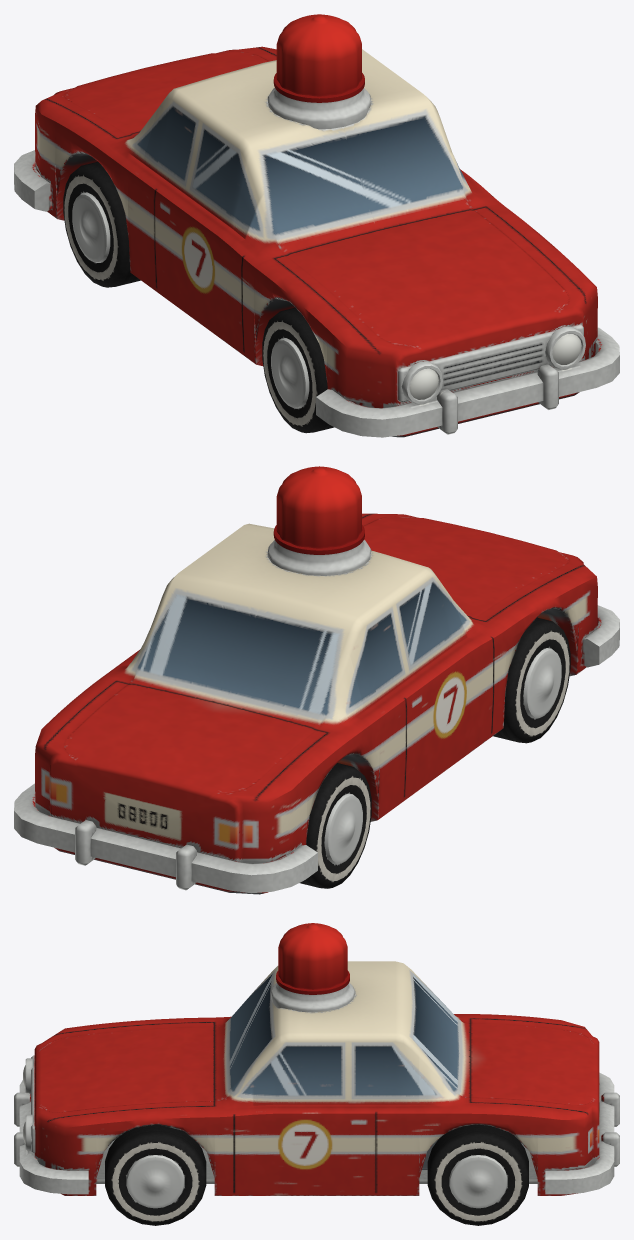
Rendered from SirenCar.fbx.
3 renders of one model, top to bottom at view 1: azimuth 30°, elevation 25°; view 2: azimuth 150°, elevation 25°; view 3: azimuth 270°, elevation 25°, orthographic. The views are drawn at different scales.
Visible parts, largest first — view 1: SirenCar_Body, SirenCar_Beacon, SirenCar_RearWheels, SirenCar_FrontWheels; view 2: SirenCar_Body, SirenCar_Beacon, SirenCar_FrontWheels, SirenCar_RearWheels; view 3: SirenCar_Body, SirenCar_RearWheels, SirenCar_FrontWheels, SirenCar_Beacon.
Boxes of the visible parts, x1=… form: SirenCar_Body: x1=14, y1=46, x2=619, y2=437; SirenCar_Beacon: x1=273, y1=14, x2=364, y2=102; SirenCar_RearWheels: x1=63, y1=161, x2=140, y2=287; SirenCar_FrontWheels: x1=262, y1=307, x2=334, y2=433; SirenCar_Body: x1=14, y1=513, x2=619, y2=894; SirenCar_Beacon: x1=273, y1=466, x2=364, y2=554; SirenCar_FrontWheels: x1=493, y1=617, x2=570, y2=743; SirenCar_RearWheels: x1=300, y1=763, x2=371, y2=888; SirenCar_Body: x1=14, y1=961, x2=619, y2=1195; SirenCar_RearWheels: x1=427, y1=1124, x2=528, y2=1225; SirenCar_FrontWheels: x1=105, y1=1124, x2=206, y2=1225; SirenCar_Beacon: x1=276, y1=923, x2=349, y2=994.
Bounding box in the file's own units: 0.2656 × 0.2791 × 0.6059.
1 material, 1 textured.
